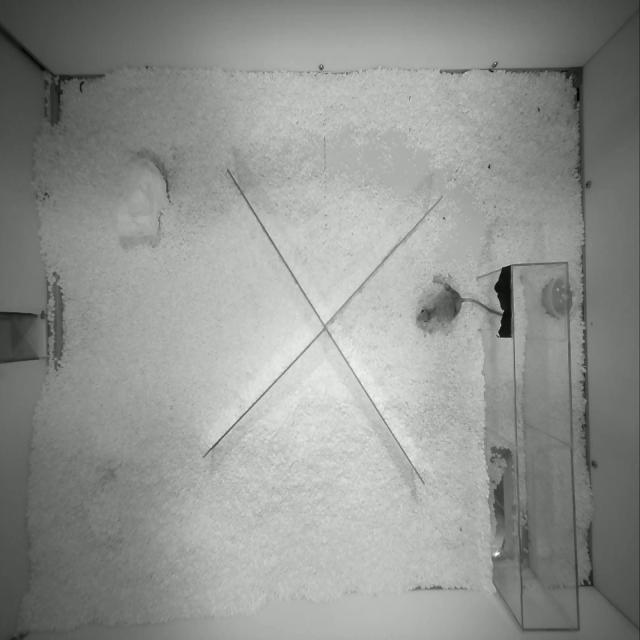adult_back: (416, 276, 501, 327)
